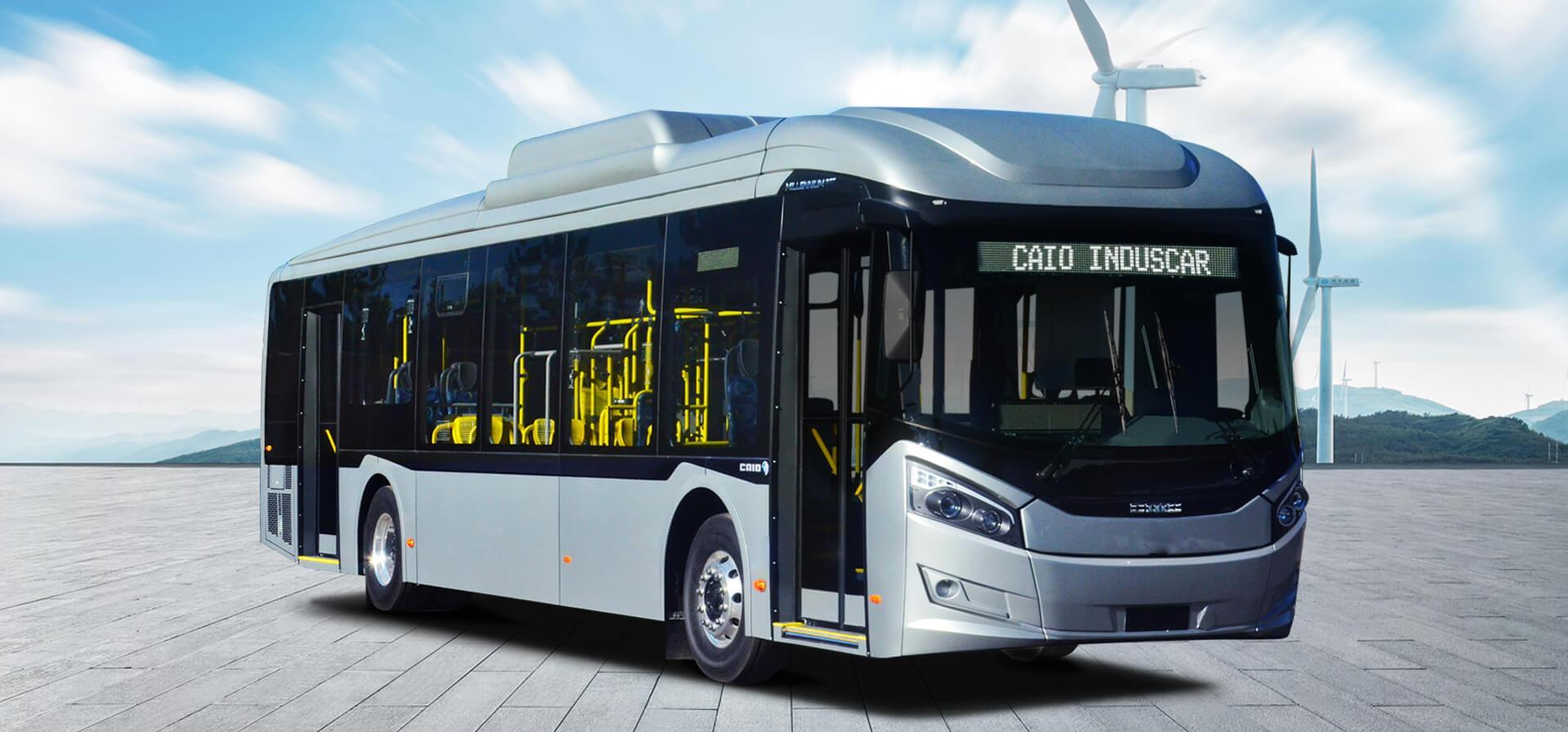Bus: (258, 108, 1313, 685)
